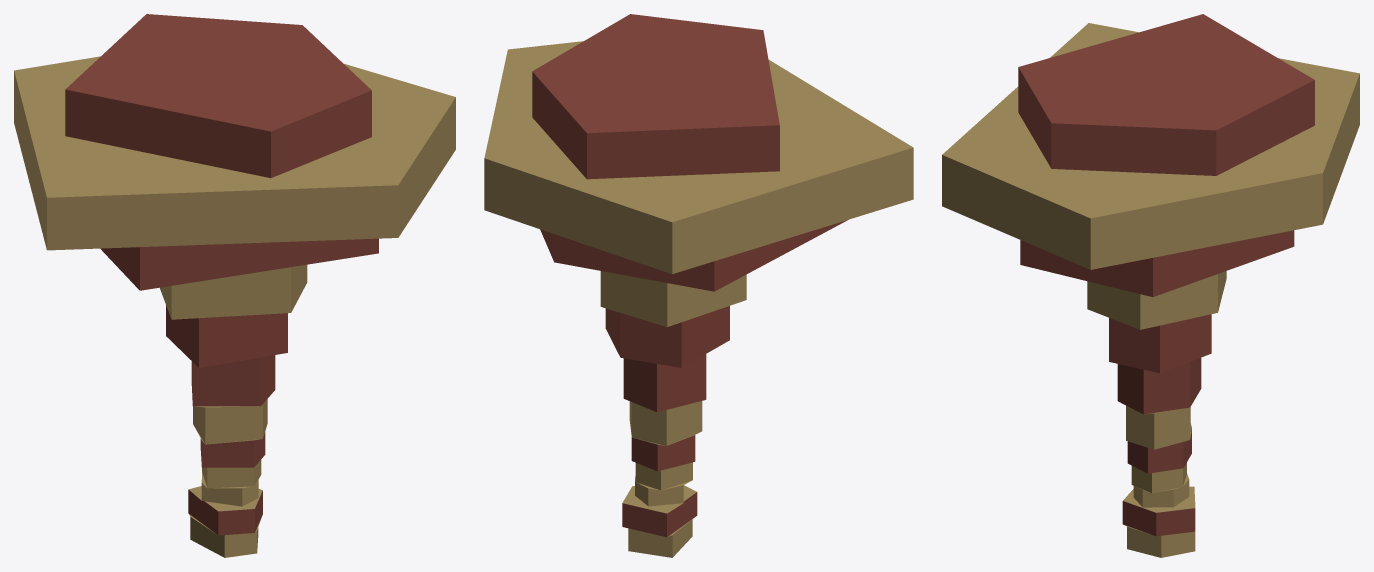
The model's file is WeatheredStone5.fbx.
3 views of the same model, side by side, from view 1: azimuth 30°, elevation 25°; view 2: azimuth 150°, elevation 25°; view 3: azimuth 270°, elevation 25° (orthographic). The views are drawn at different scales.
Visible parts, largest first — view 1: Circle.017; view 2: Circle.017; view 3: Circle.017.
Boxes of the visible parts, bbox=[...] form: Circle.017: bbox=[14, 14, 455, 557]; Circle.017: bbox=[484, 14, 913, 557]; Circle.017: bbox=[942, 14, 1359, 557].
Size of the model in its own units: 2840 by 3129 by 2564.
